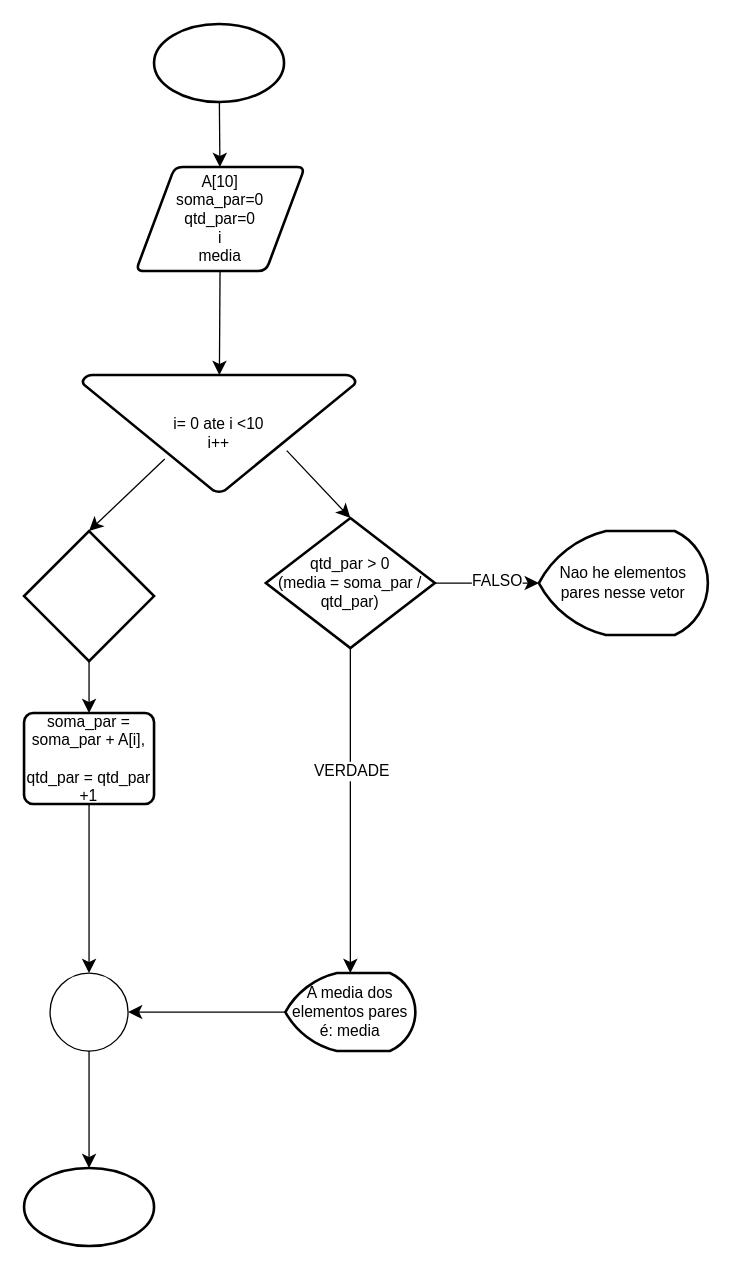
This 731x1269 diagram has some shape labels left out. The shapes that lost their labels are listed below. From the top down, each one's box as (x1, y1, x2, y2) in pixels, then its label:
(152, 22, 285, 103): inicio
(22, 529, 155, 662): A[i] % 2 = 0
(22, 1166, 155, 1247): fim
